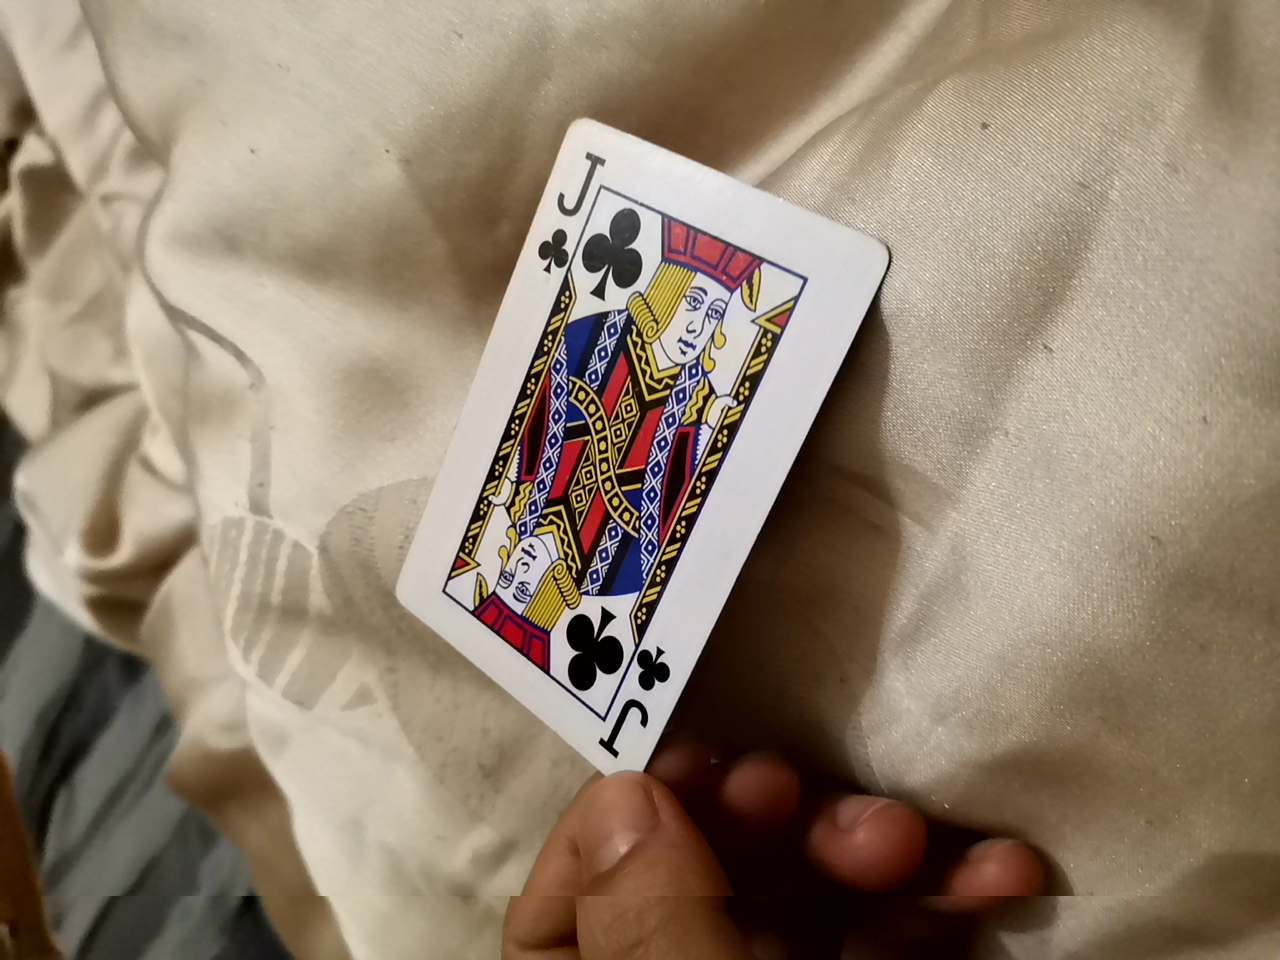mh j: (373, 136, 866, 791)
